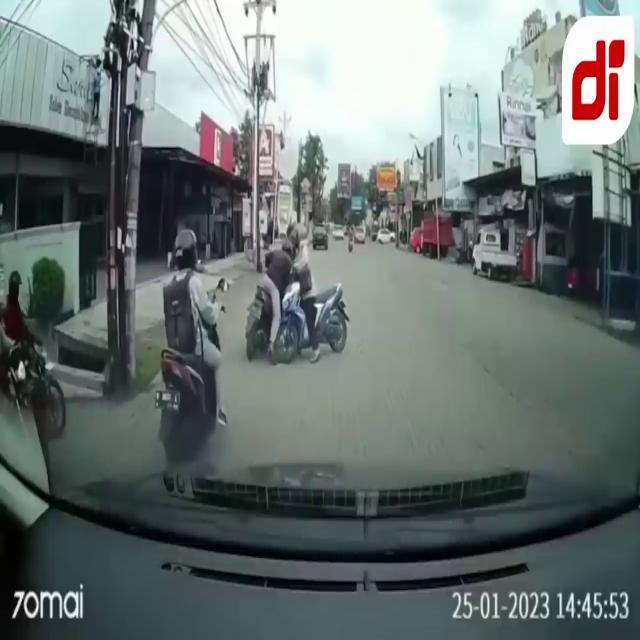multiple_accident: (232, 220, 350, 364)
normal: (145, 213, 235, 481)
